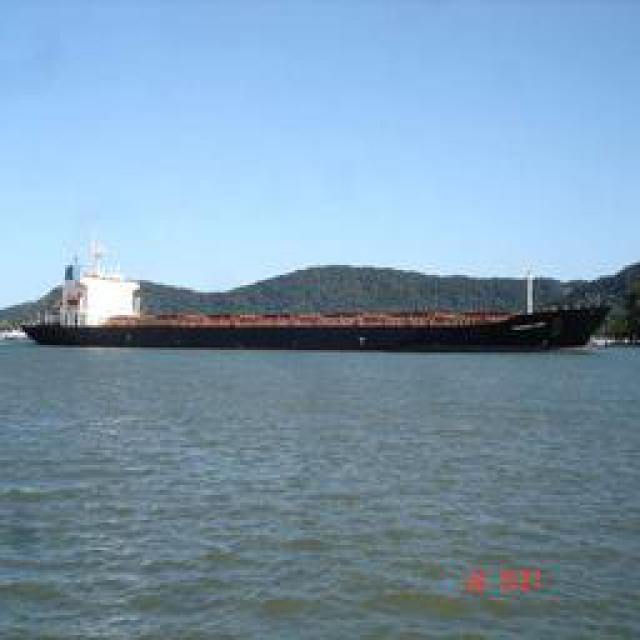Ship: (21, 296, 604, 354)
